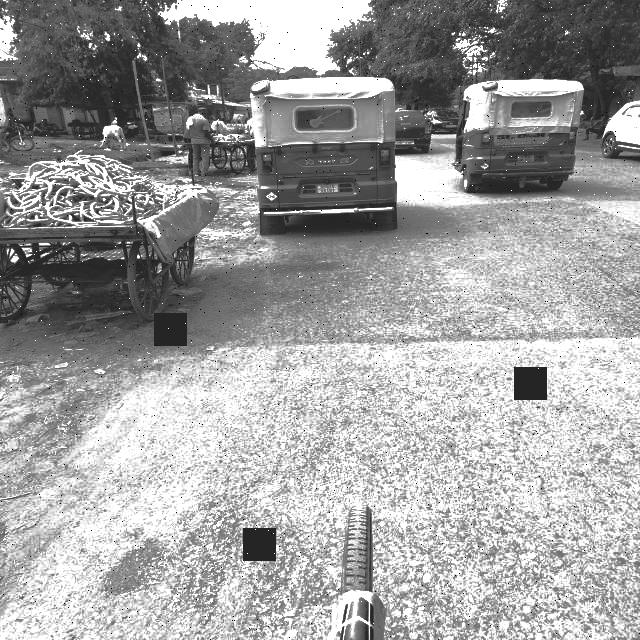Auto-Rickshaw: (233, 71, 415, 241), (449, 74, 595, 201)
